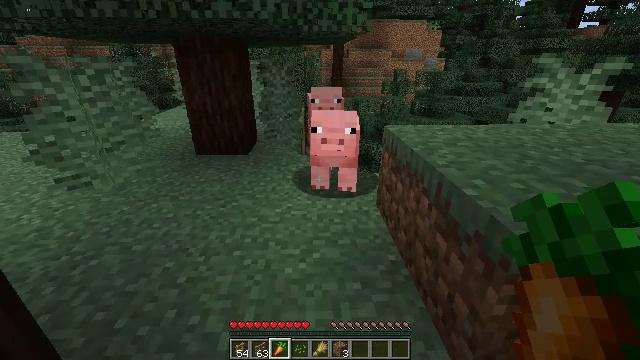pig: (312, 112, 359, 192), (306, 87, 345, 116)
